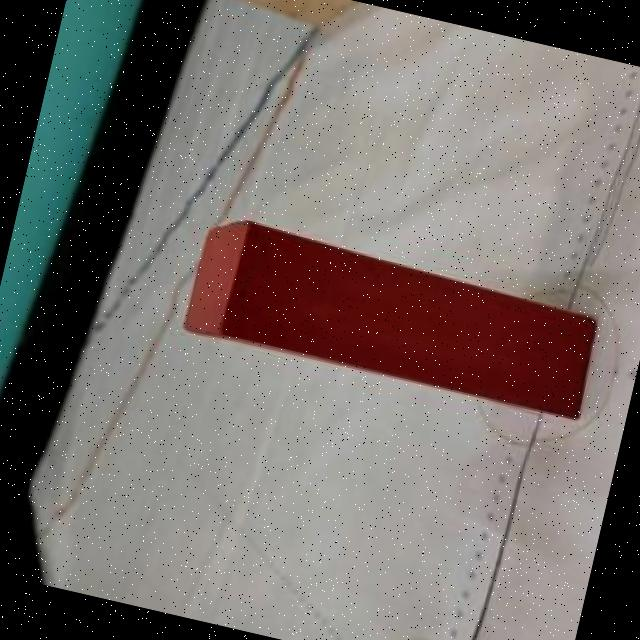redbox: (180, 208, 610, 422)
